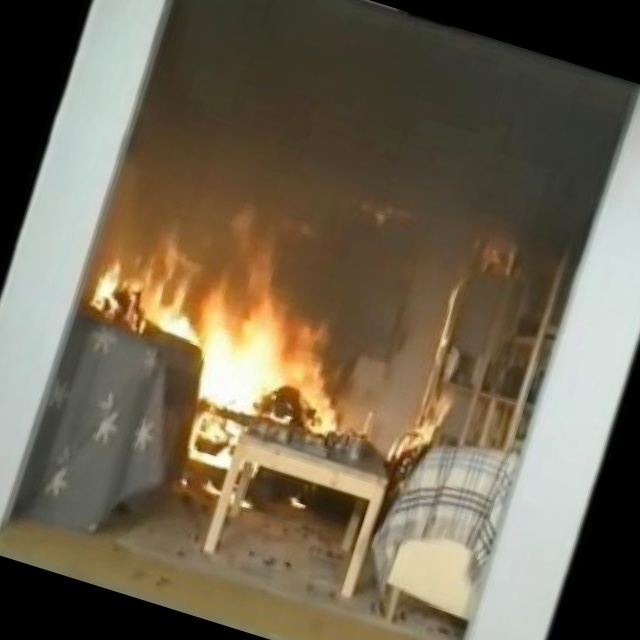fire: (72, 236, 360, 446)
